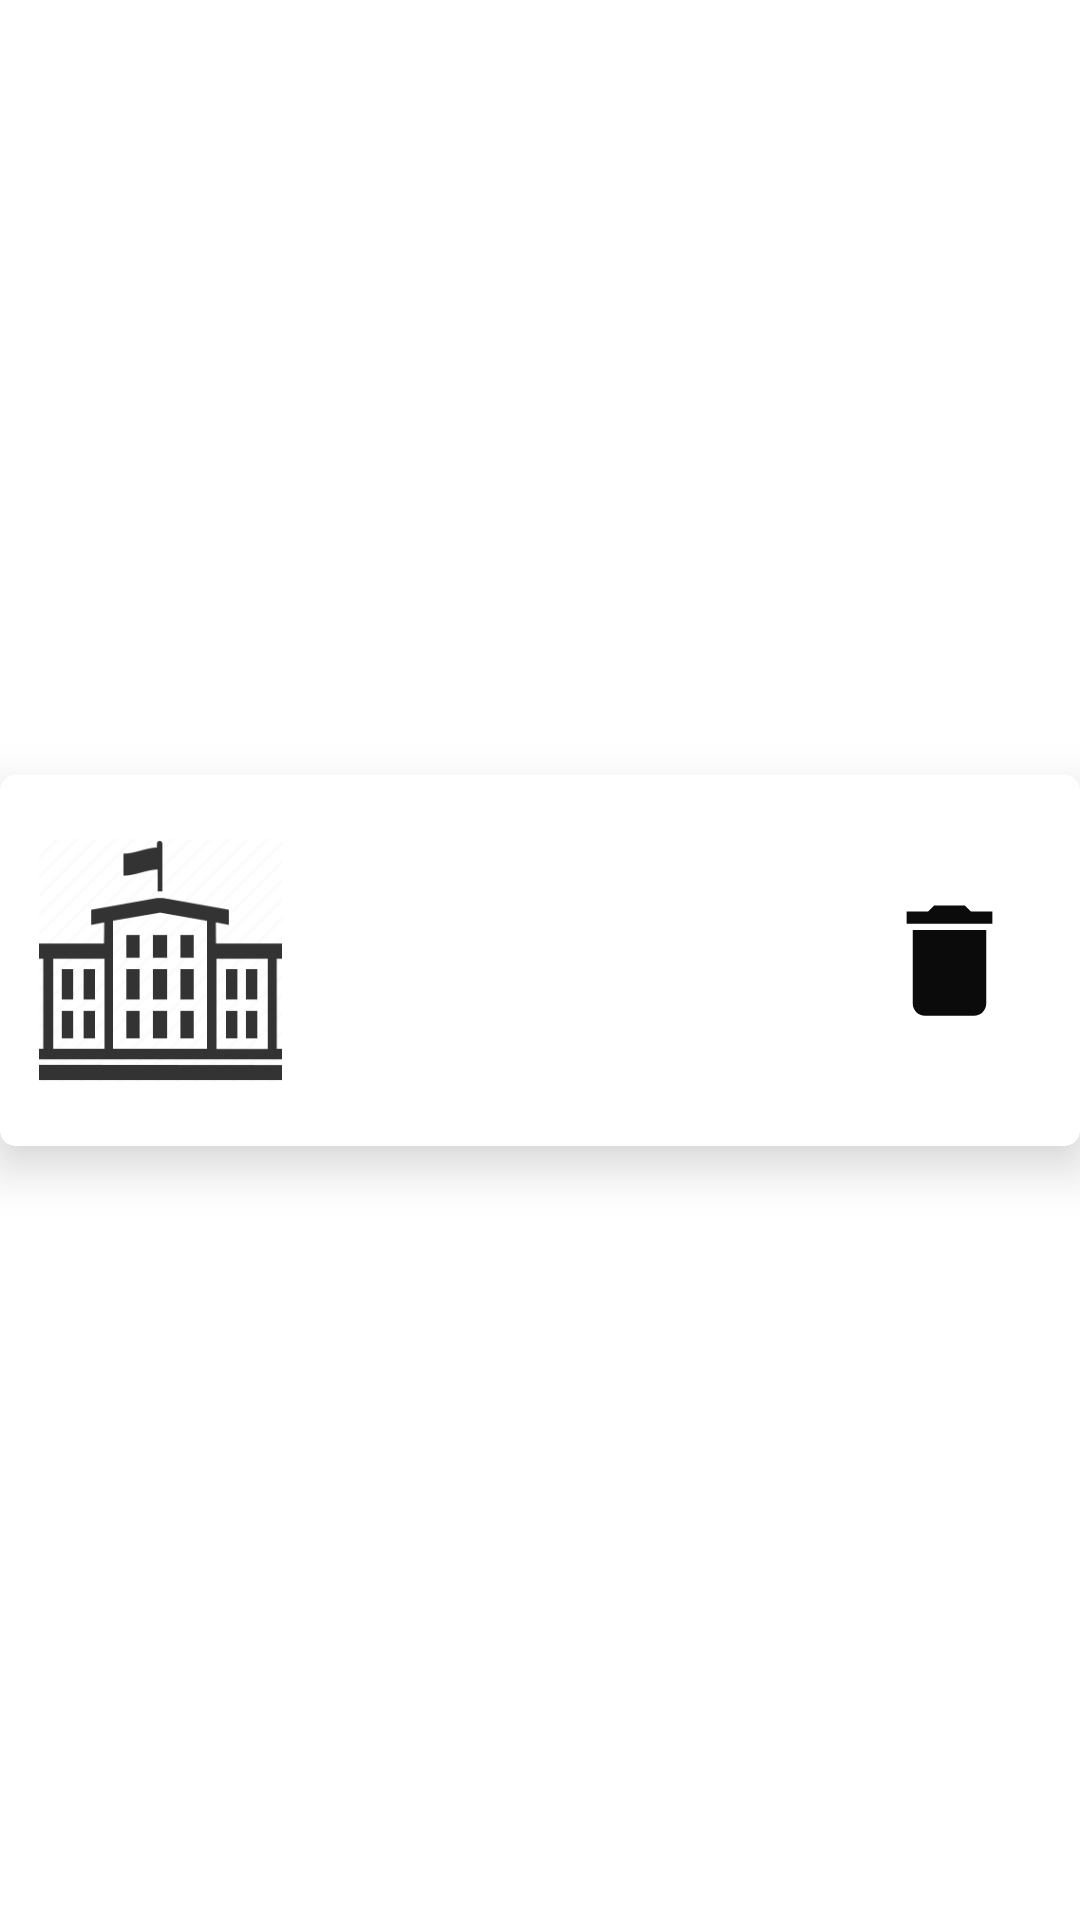

Where to tap for icons on this 1080 × 1920 app screen, as (x=x, y=y):
delete: (x=949, y=960)
school: (x=160, y=960)
